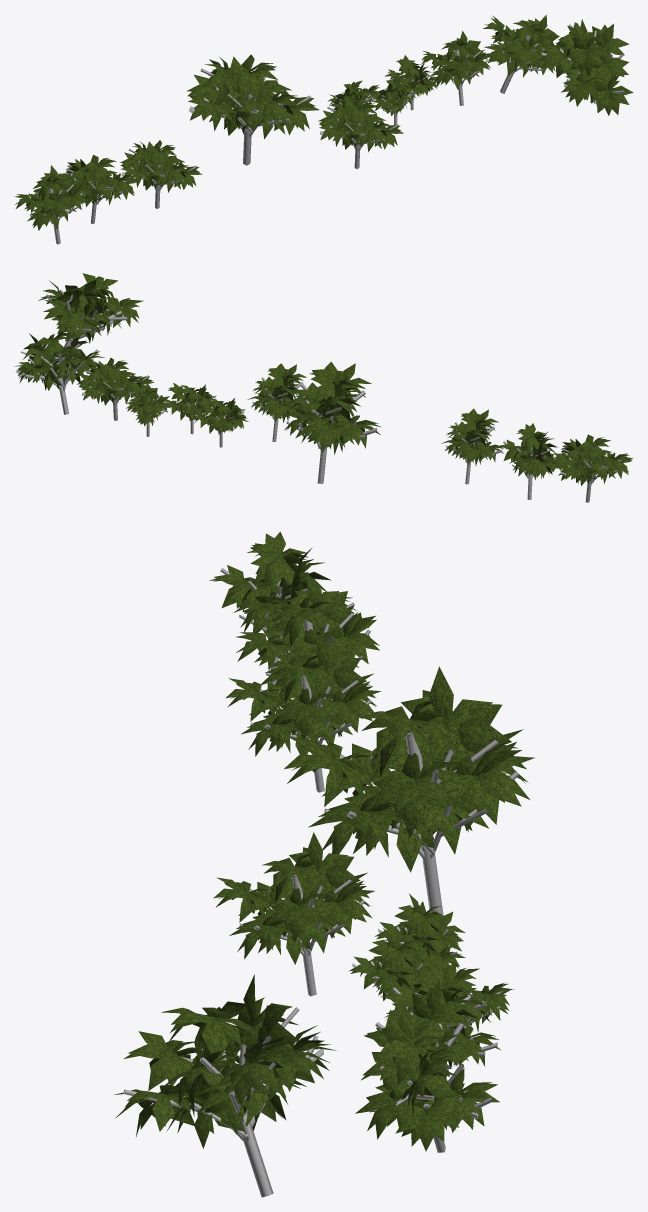
The model's file is trees.fbx.
3 views of the same model, one above another, from view 1: azimuth 30°, elevation 25°; view 2: azimuth 150°, elevation 25°; view 3: azimuth 270°, elevation 25° (orthographic). The views are drawn at different scales.
Parts seen in each view (by area): view 1: group14; view 2: group14; view 3: group14.
Part boxes in pixels (x1=…): group14: x1=14, y1=15, x2=633, y2=244; group14: x1=14, y1=273, x2=633, y2=502; group14: x1=114, y1=531, x2=534, y2=1197.
Bounding box in the file's own units: 10570 × 1922 × 3259.
